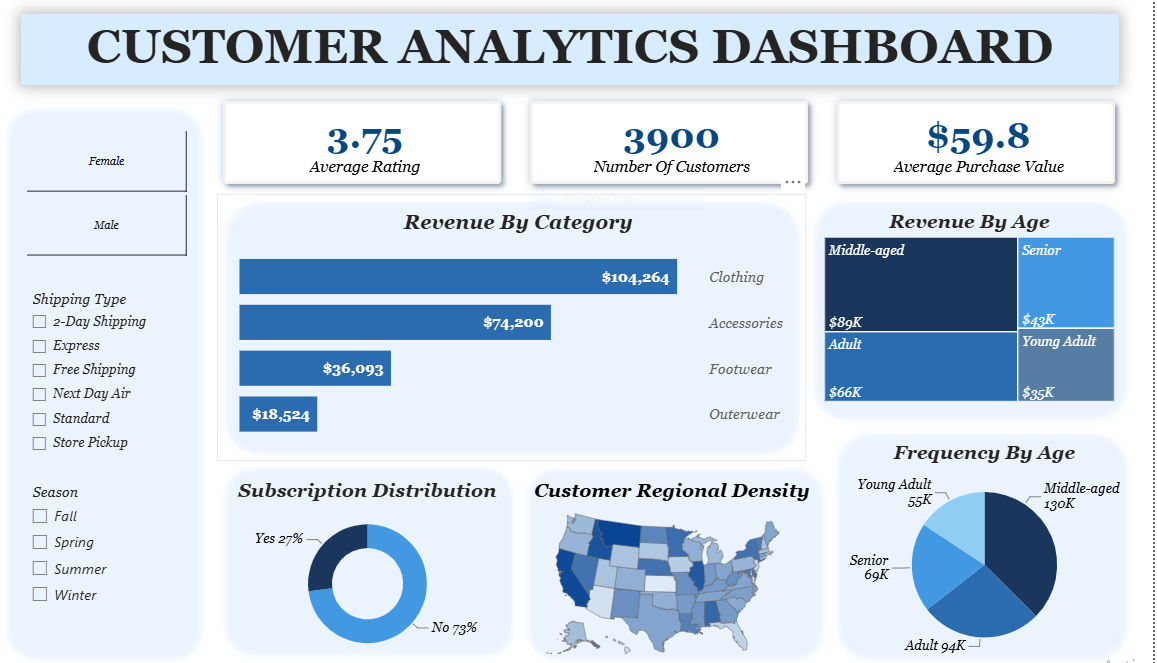

This screenshot's page, from the dashboard's own definition file:
{"tool":"powerbi","page":{"name":"Page 1","canvas":[1282,740],"ordinal":0},"visuals":[{"type":"textbox","box":[24.4,15.6,1220,78.9],"z":0},{"type":"cardVisual","fields":{"Data":["customeranalysis customers.average rating","customeranalysis customers.number of customers","customeranalysis customers.average purchase amount"]},"box":[220,83.3,1050,150],"z":1000},{"type":"slicer","fields":{"Values":["customeranalysis customers.gender"]},"box":[5.6,138.9,226.7,152.2],"z":2000},{"type":"shape","box":[0,112.2,232.2,627.8],"z":3000},{"type":"shape","box":[242.2,215.6,654.4,296.7],"z":4000},{"type":"shape","box":[896.7,215.6,363.3,257.8],"z":5000},{"type":"shape","box":[242.2,511.1,335.6,224.4],"z":6000},{"type":"shape","box":[578.9,512.2,343.3,227.8],"z":7000},{"type":"shape","box":[922.2,473.3,337.8,266.7],"z":8000},{"type":"barChart","title":"Revenue By Category","fields":{"Category":["customeranalysis customers.category"],"Y":["Sum(customeranalysis customers.purchase_amount)"]},"box":[262.2,233.3,630,273.3],"z":9000},{"type":"donutChart","title":"Subscription Distribution","fields":{"Category":["customeranalysis customers.subscription_status"],"Y":["Sum(customeranalysis customers.customer_id)"]},"box":[246.7,532.2,325.6,207.8],"z":10000},{"type":"shapeMap","title":"Customer Regional Density","fields":{"Value":["CountNonNull(customeranalysis customers.customer_id)"],"Category":["customeranalysis customers.location"]},"box":[570,532.2,335.6,207.8],"z":11000},{"type":"pieChart","title":"Frequency By Age","fields":{"Category":["customeranalysis customers.age_group"],"Y":["Sum(customeranalysis customers.frequency_of_purchases)"]},"box":[916.7,490,356.7,250],"z":12000},{"type":"treemap","title":"Revenue By Age","fields":{"Values":["Sum(customeranalysis customers.purchase_amount)"],"Group":["customeranalysis customers.age_group"]},"box":[912.2,233.3,332.2,217.8],"z":13000},{"type":"slicer","fields":{"Values":["customeranalysis customers.shipping_type"]},"box":[24.4,317.8,187.8,194.4],"z":14000},{"type":"slicer","fields":{"Values":["customeranalysis customers.season"]},"box":[24.4,532.2,187.8,177.8],"z":15000}]}

Visuals, with their boxes in screenshot pixels (x1, y1, x2, y2), scaled from the page's 1282x740 canvas onto the 1157x663 screenshot:
textbox: <bbox>22, 14, 1123, 85</bbox>
cardVisual - customeranalysis customers.average rating x customeranalysis customers.number of customers: <bbox>199, 75, 1146, 209</bbox>
slicer - customeranalysis customers.gender: <bbox>5, 124, 210, 261</bbox>
shape: <bbox>0, 101, 210, 662</bbox>
shape: <bbox>219, 193, 809, 459</bbox>
shape: <bbox>809, 193, 1137, 424</bbox>
shape: <bbox>219, 458, 521, 659</bbox>
shape: <bbox>522, 459, 832, 662</bbox>
shape: <bbox>832, 424, 1137, 662</bbox>
"Revenue By Category" barChart: <bbox>237, 209, 805, 454</bbox>
"Subscription Distribution" donutChart: <bbox>223, 477, 516, 662</bbox>
"Customer Regional Density" shapeMap: <bbox>514, 477, 817, 662</bbox>
"Frequency By Age" pieChart: <bbox>827, 439, 1149, 662</bbox>
"Revenue By Age" treemap: <bbox>823, 209, 1123, 404</bbox>
slicer - customeranalysis customers.shipping_type: <bbox>22, 285, 192, 459</bbox>
slicer - customeranalysis customers.season: <bbox>22, 477, 192, 636</bbox>
